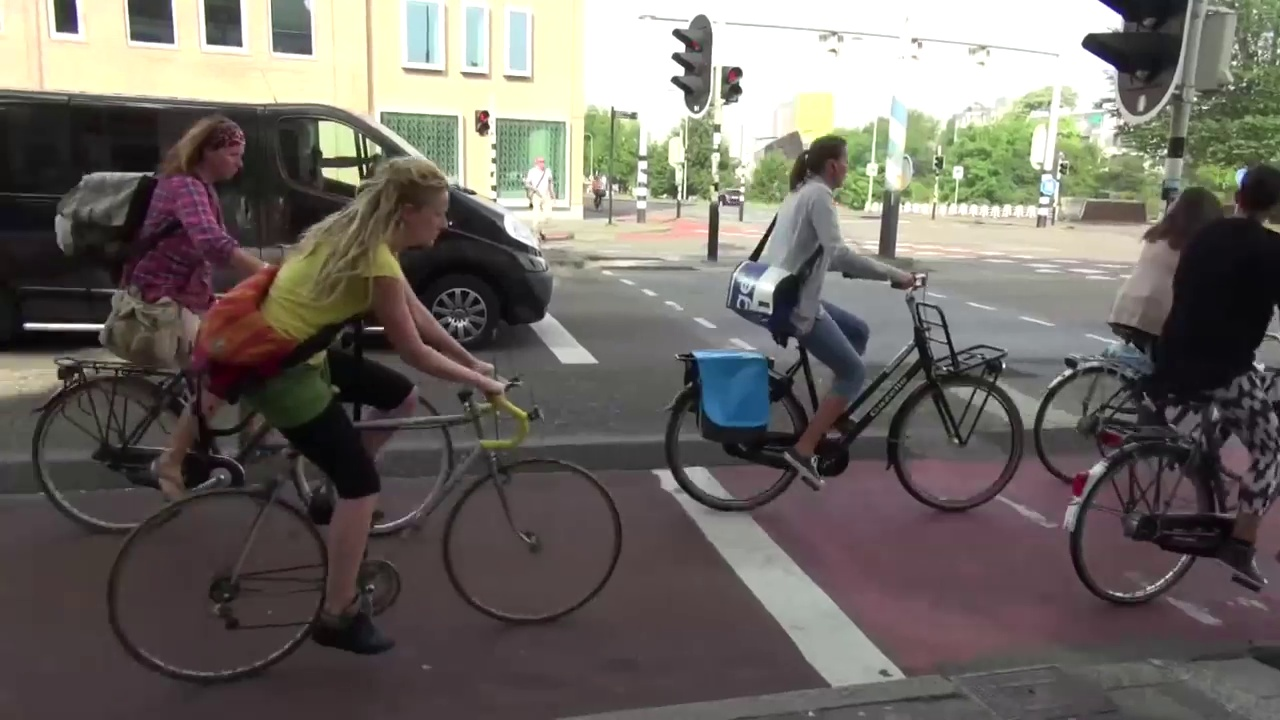cyclist_side: (98, 143, 629, 689), (649, 112, 1027, 512), (1063, 147, 1274, 609), (39, 100, 270, 510)
